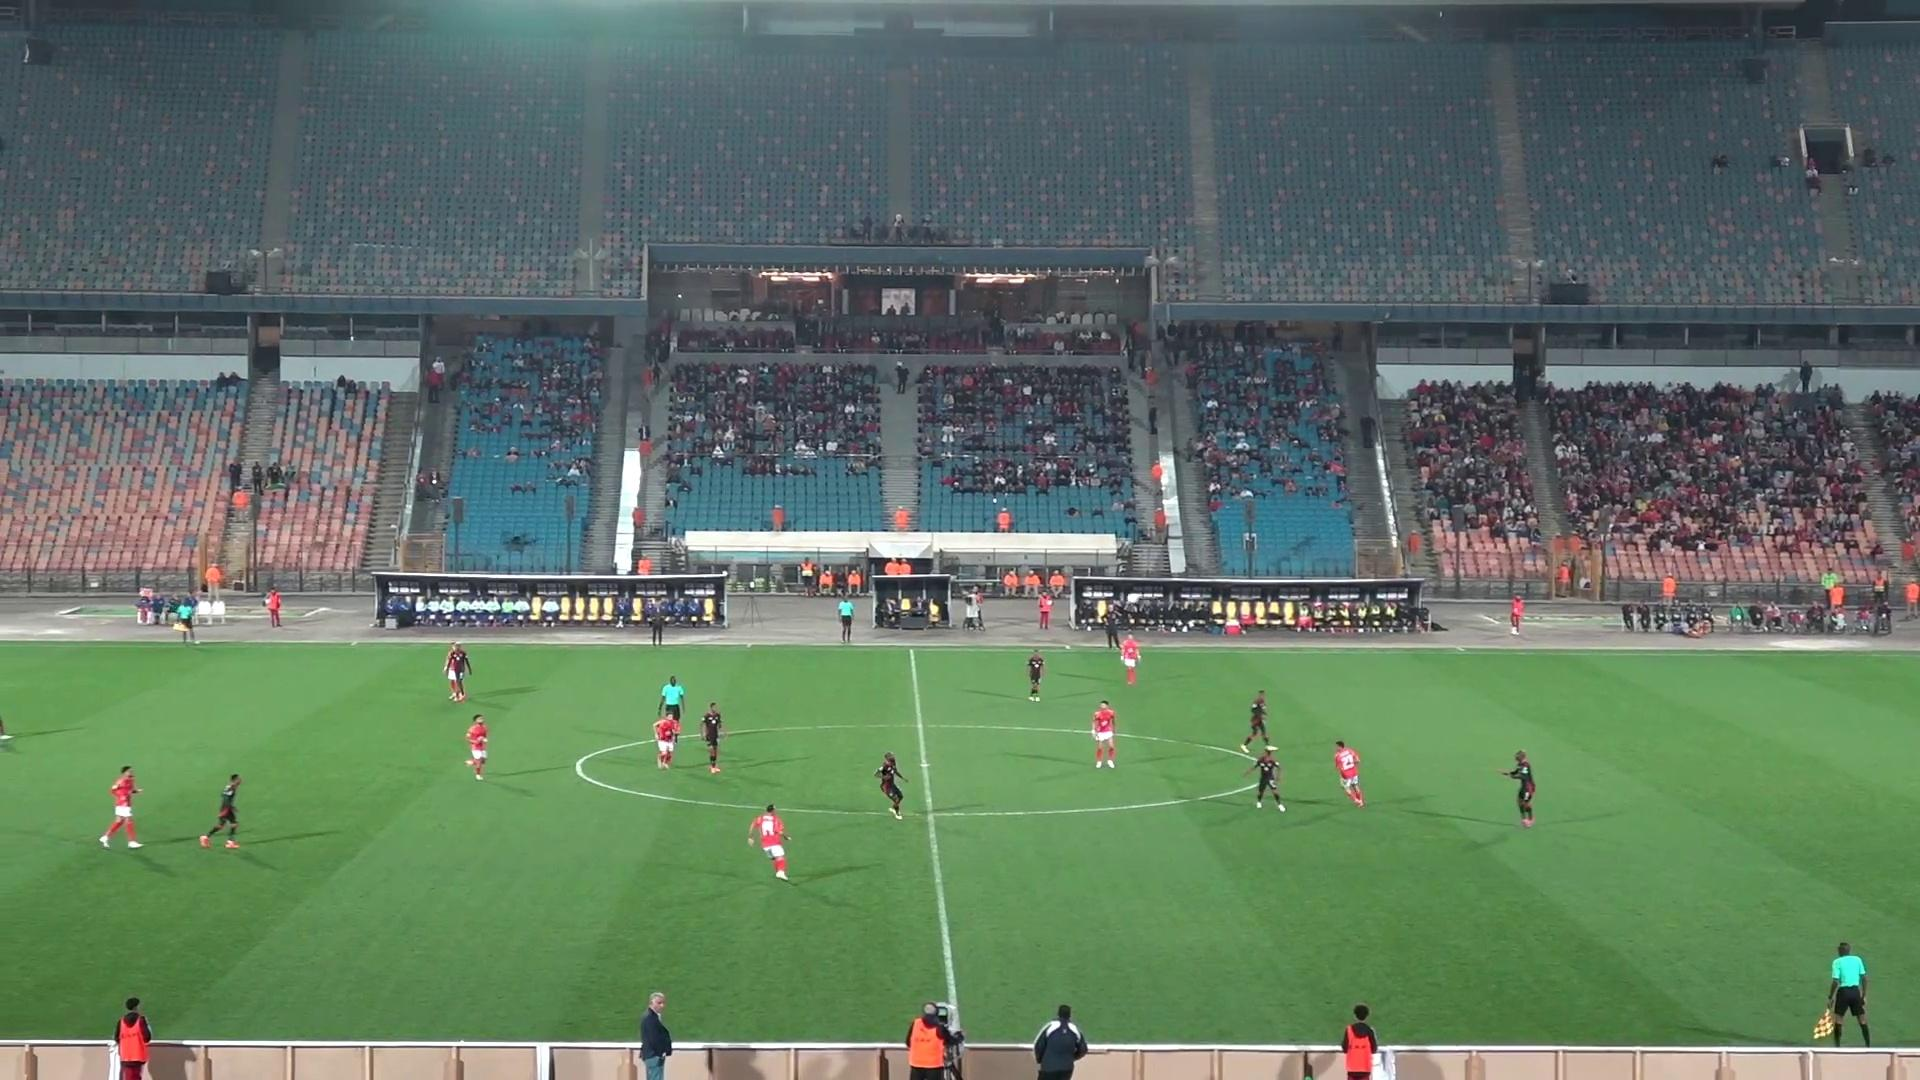Refree: (1812, 942, 1871, 1044), (655, 675, 686, 721), (833, 579, 855, 644), (171, 593, 196, 644)
Team1: (100, 766, 142, 848), (748, 804, 789, 880), (1335, 740, 1365, 807), (1091, 702, 1116, 767), (654, 709, 680, 769), (465, 713, 488, 778), (443, 642, 467, 702), (1118, 636, 1141, 684)
Team2: (199, 773, 243, 848), (1501, 752, 1536, 827), (874, 752, 906, 818), (1241, 688, 1273, 754), (700, 702, 724, 773), (1254, 746, 1282, 804), (446, 644, 471, 702), (1025, 649, 1046, 702)
